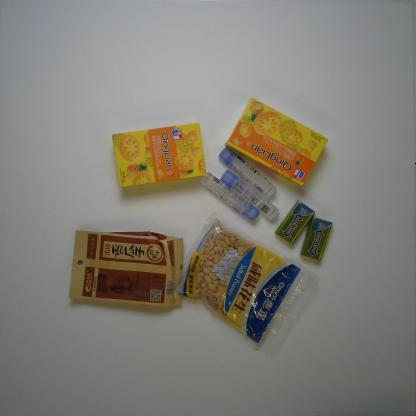Dessert: (224, 98, 334, 184), (108, 120, 208, 196)
Dried Food: (68, 226, 186, 321)
Dried Fruit: (173, 208, 313, 353)
Gum: (277, 196, 316, 244), (304, 212, 338, 267)
Stationery: (199, 169, 267, 225), (219, 169, 284, 224), (218, 145, 279, 202)
